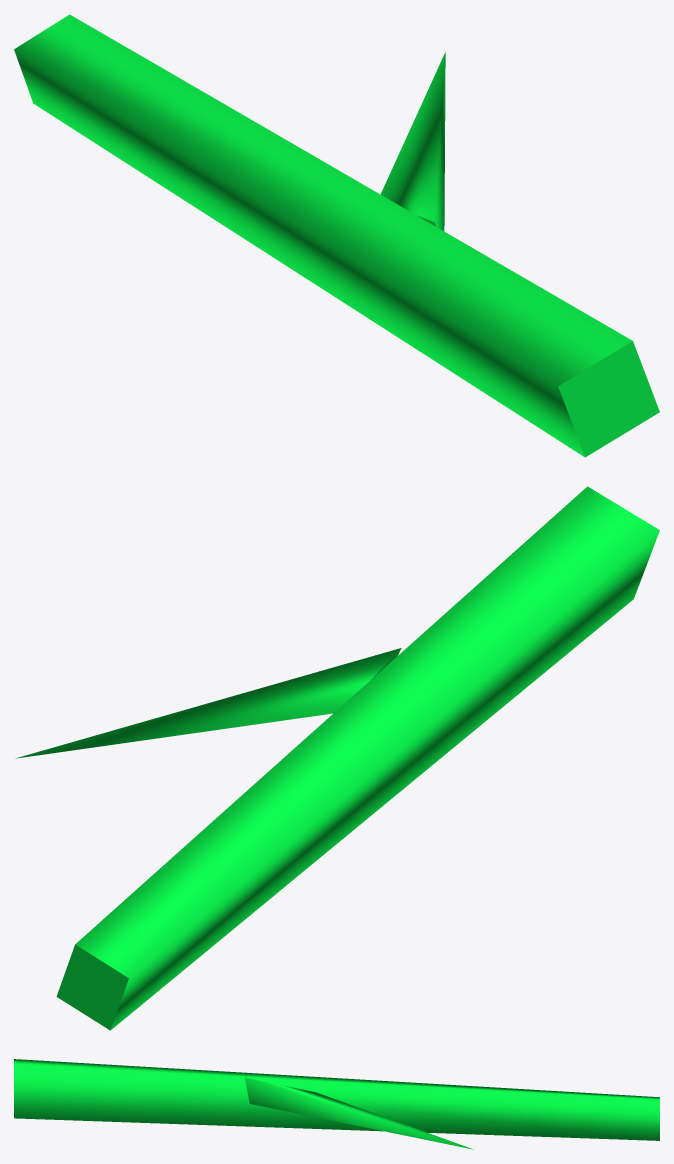
The model's file is Plant03_g_col.FBX.
The picture shows the model from 3 angles, top to bottom: view 1: azimuth 30°, elevation 25°; view 2: azimuth 150°, elevation 25°; view 3: azimuth 270°, elevation 25°; orthographic projection. The views are drawn at different scales.
Visible parts, largest first — view 1: Plant03_g_col; view 2: Plant03_g_col; view 3: Plant03_g_col.
Part boxes in pixels (x1,y1,x2,y2): Plant03_g_col: (14,14,659,457); Plant03_g_col: (15,486,659,1030); Plant03_g_col: (14,1059,659,1149).
Bounding box in the file's own units: 148 × 76.12 × 504.
